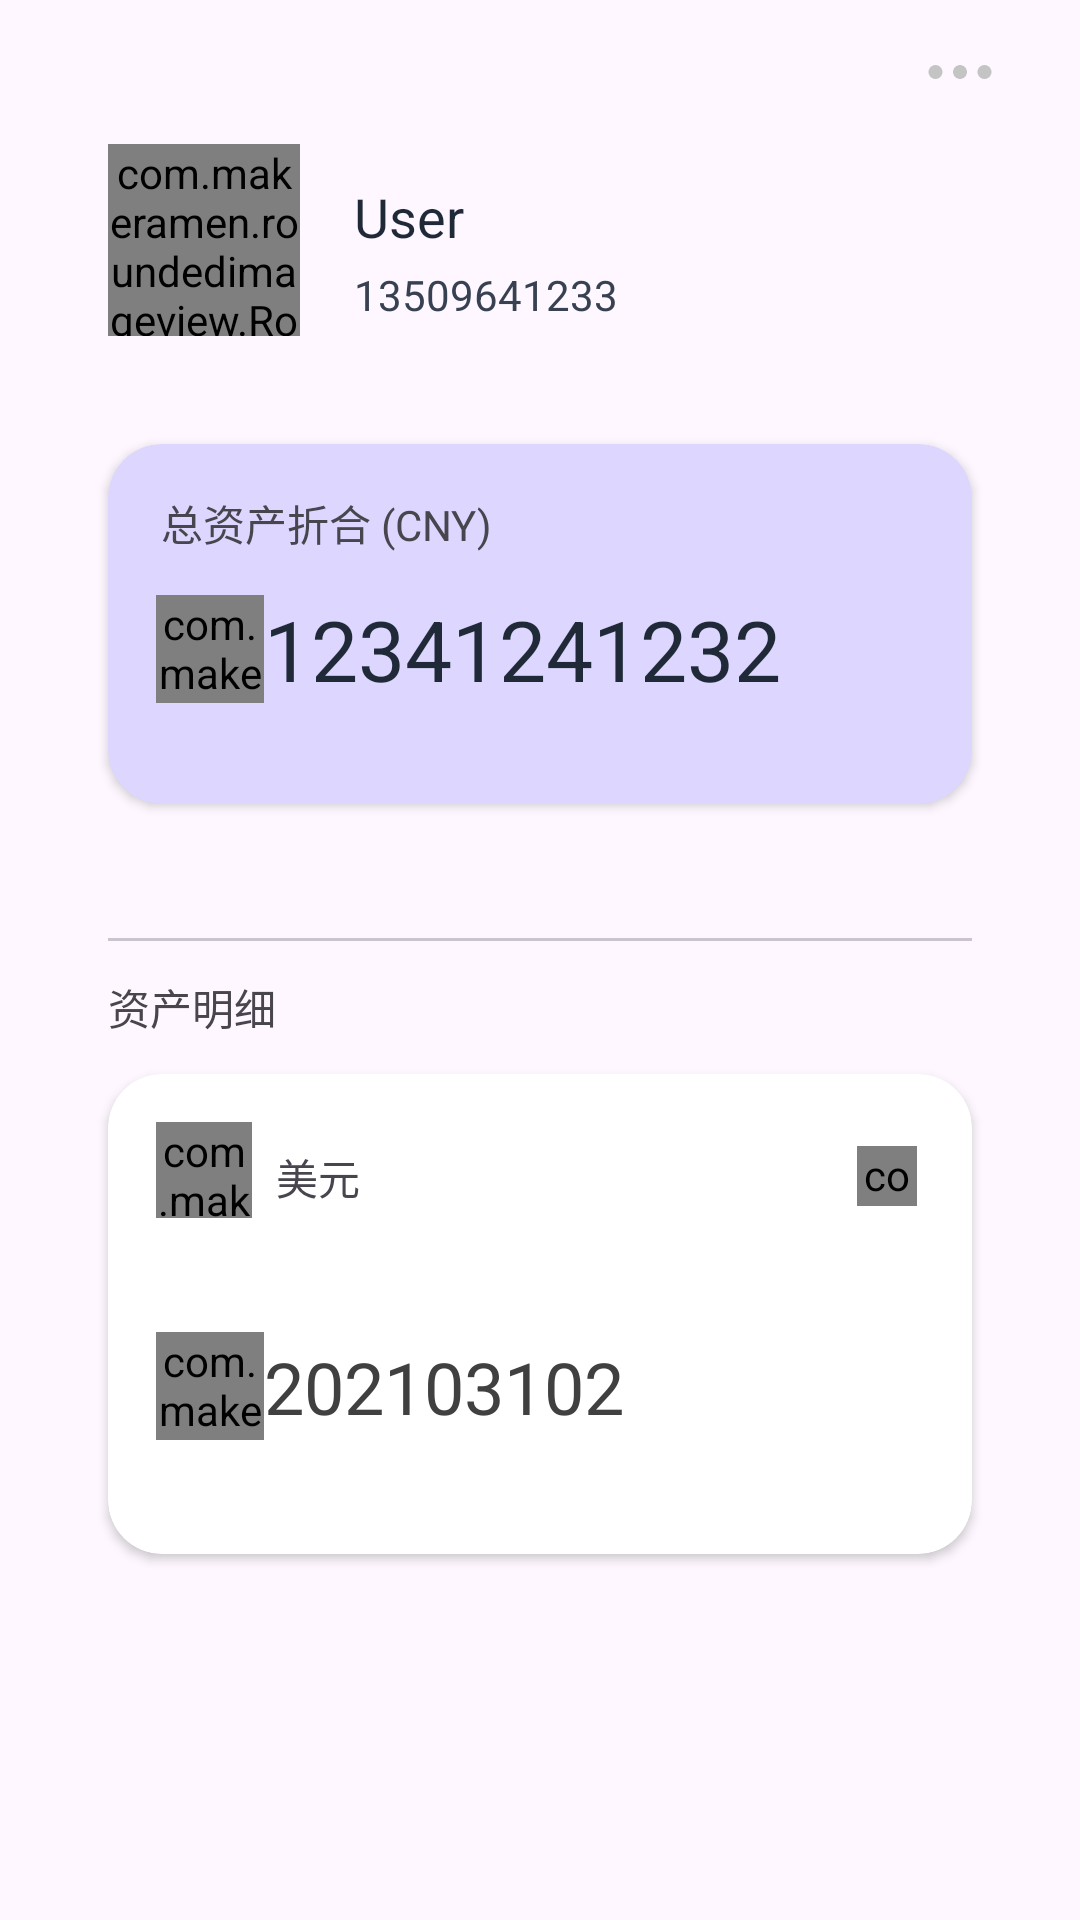

Where icons sit on this 1080 x 1920 app screen, as (x1, y1, x2, y2):
more: (928, 65, 992, 79)
